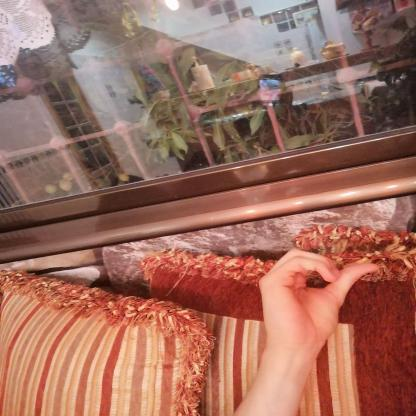WAW: (246, 239, 390, 359)
